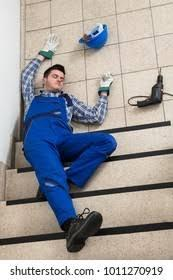fallen: (21, 36, 119, 255)
